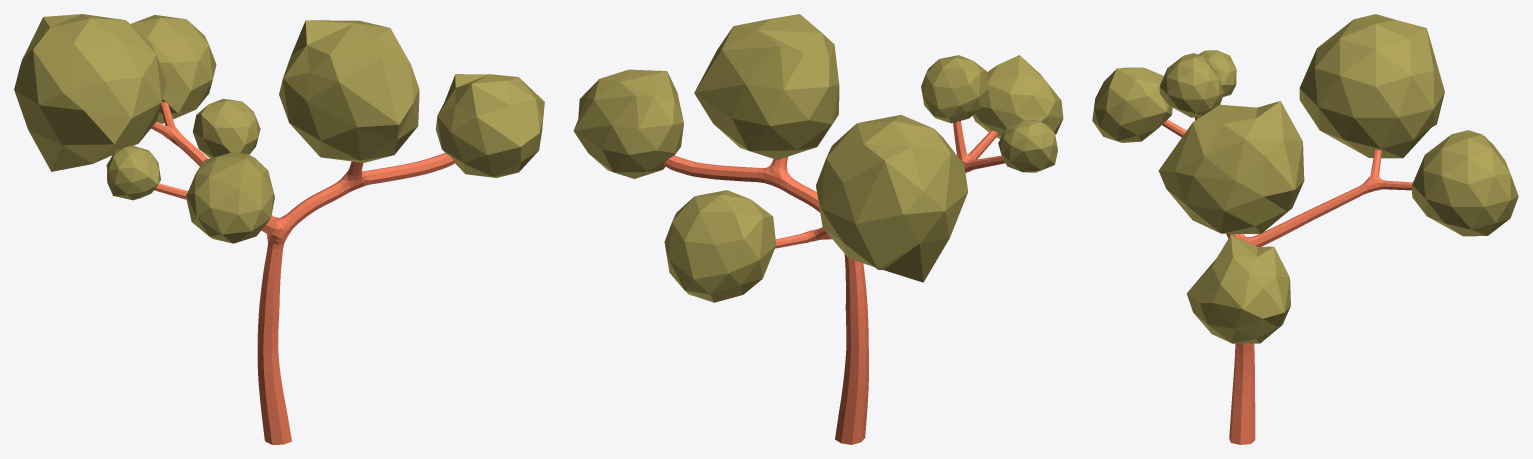
File: tree2.fbx
3 renders of one model, left to right at view 1: azimuth 30°, elevation 25°; view 2: azimuth 150°, elevation 25°; view 3: azimuth 270°, elevation 25°, orthographic. The views are drawn at different scales.
Parts seen in each view (by area): view 1: Tree2; view 2: Tree2; view 3: Tree2.
Part boxes in pixels (bbox=[...]): Tree2: bbox=[14, 14, 544, 444]; Tree2: bbox=[573, 14, 1063, 444]; Tree2: bbox=[1092, 14, 1518, 444].
Size of the model in its own units: 137 by 114 by 122.
